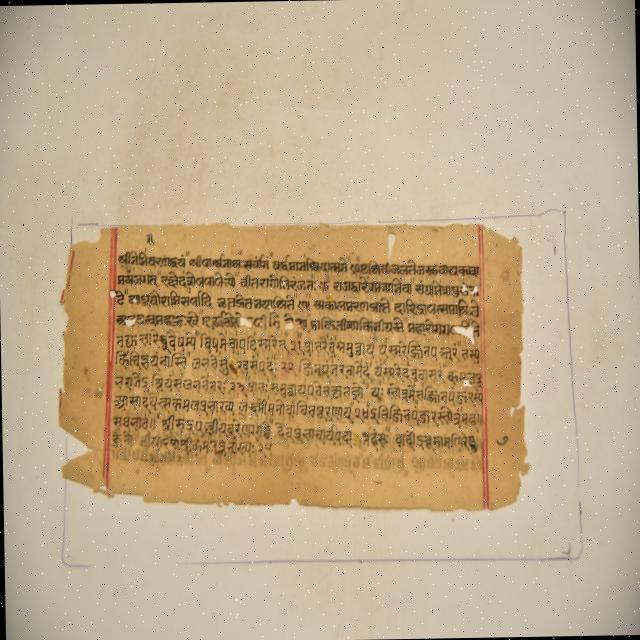text_paragraph: (67, 227, 521, 507)
